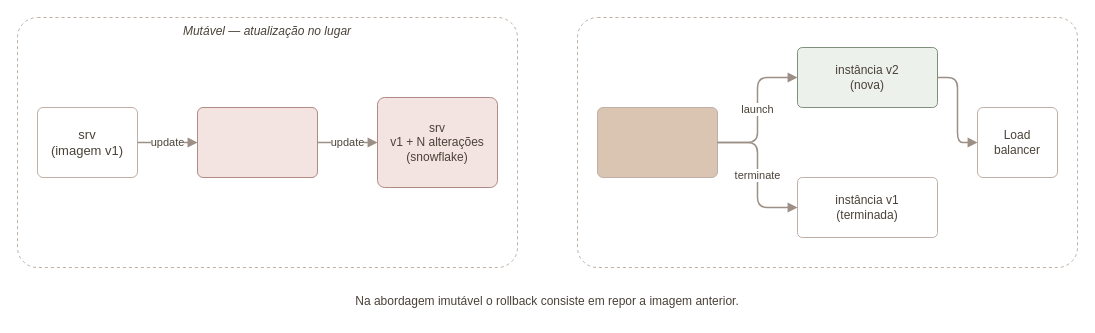
The diagram is 1095 pixels wide and 333 high, and some of its shapes have lost their labels. Each missing label, with the box of its shape:
Build de imagem (Packer / Docker) v2: (596, 106, 718, 178)
Imutável — substituição: (576, 16, 1078, 268)
srv v1 + apt upgrade: (196, 106, 318, 178)
